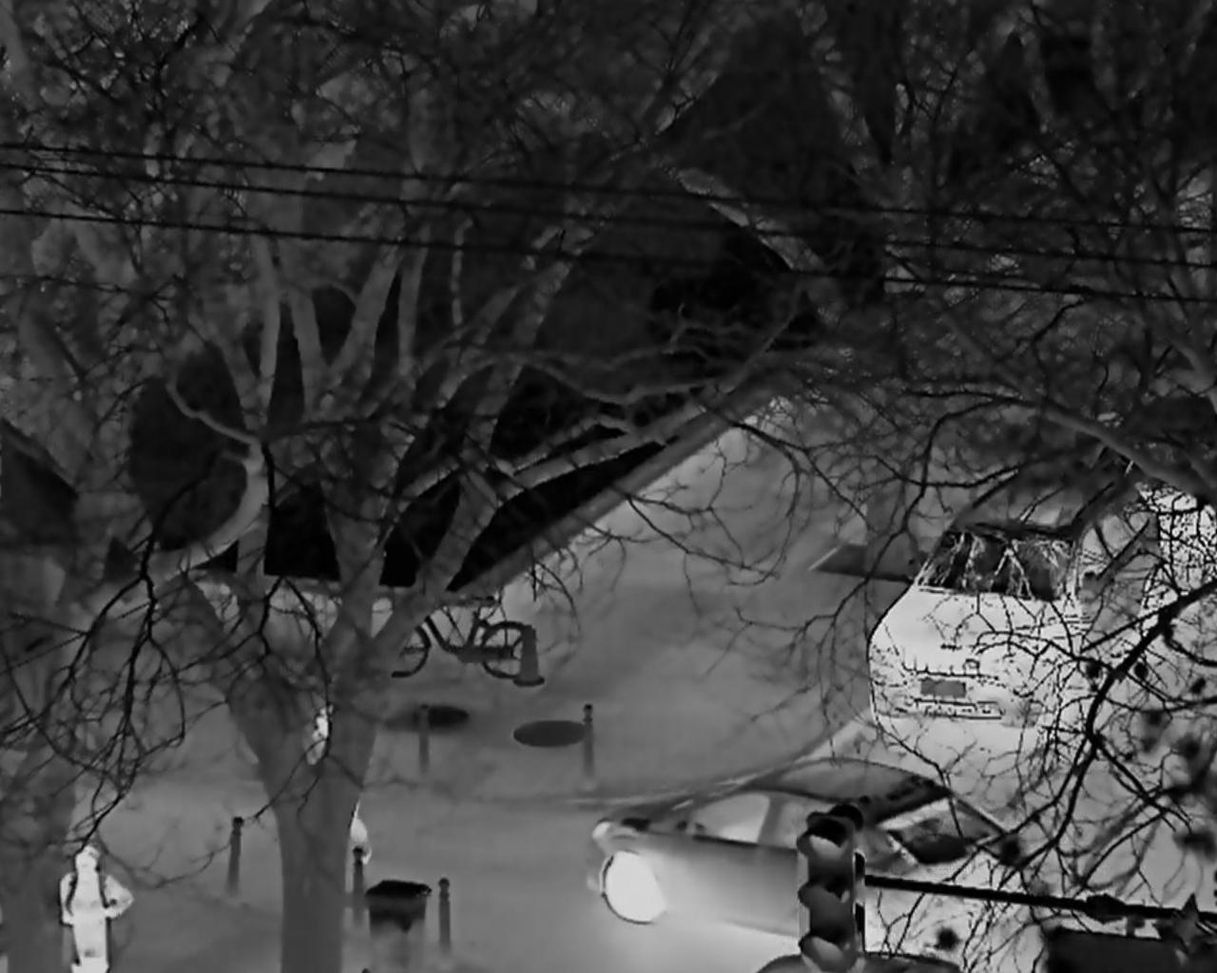person: (59, 845, 135, 973)
